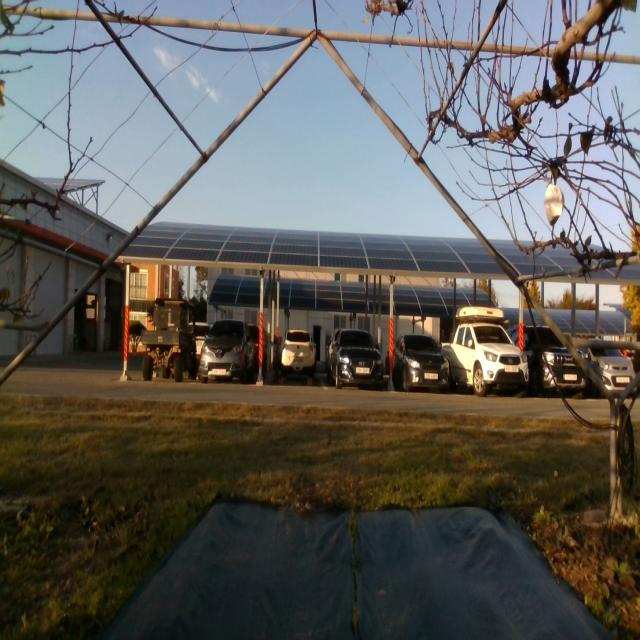pearbags: (545, 183, 564, 224)
